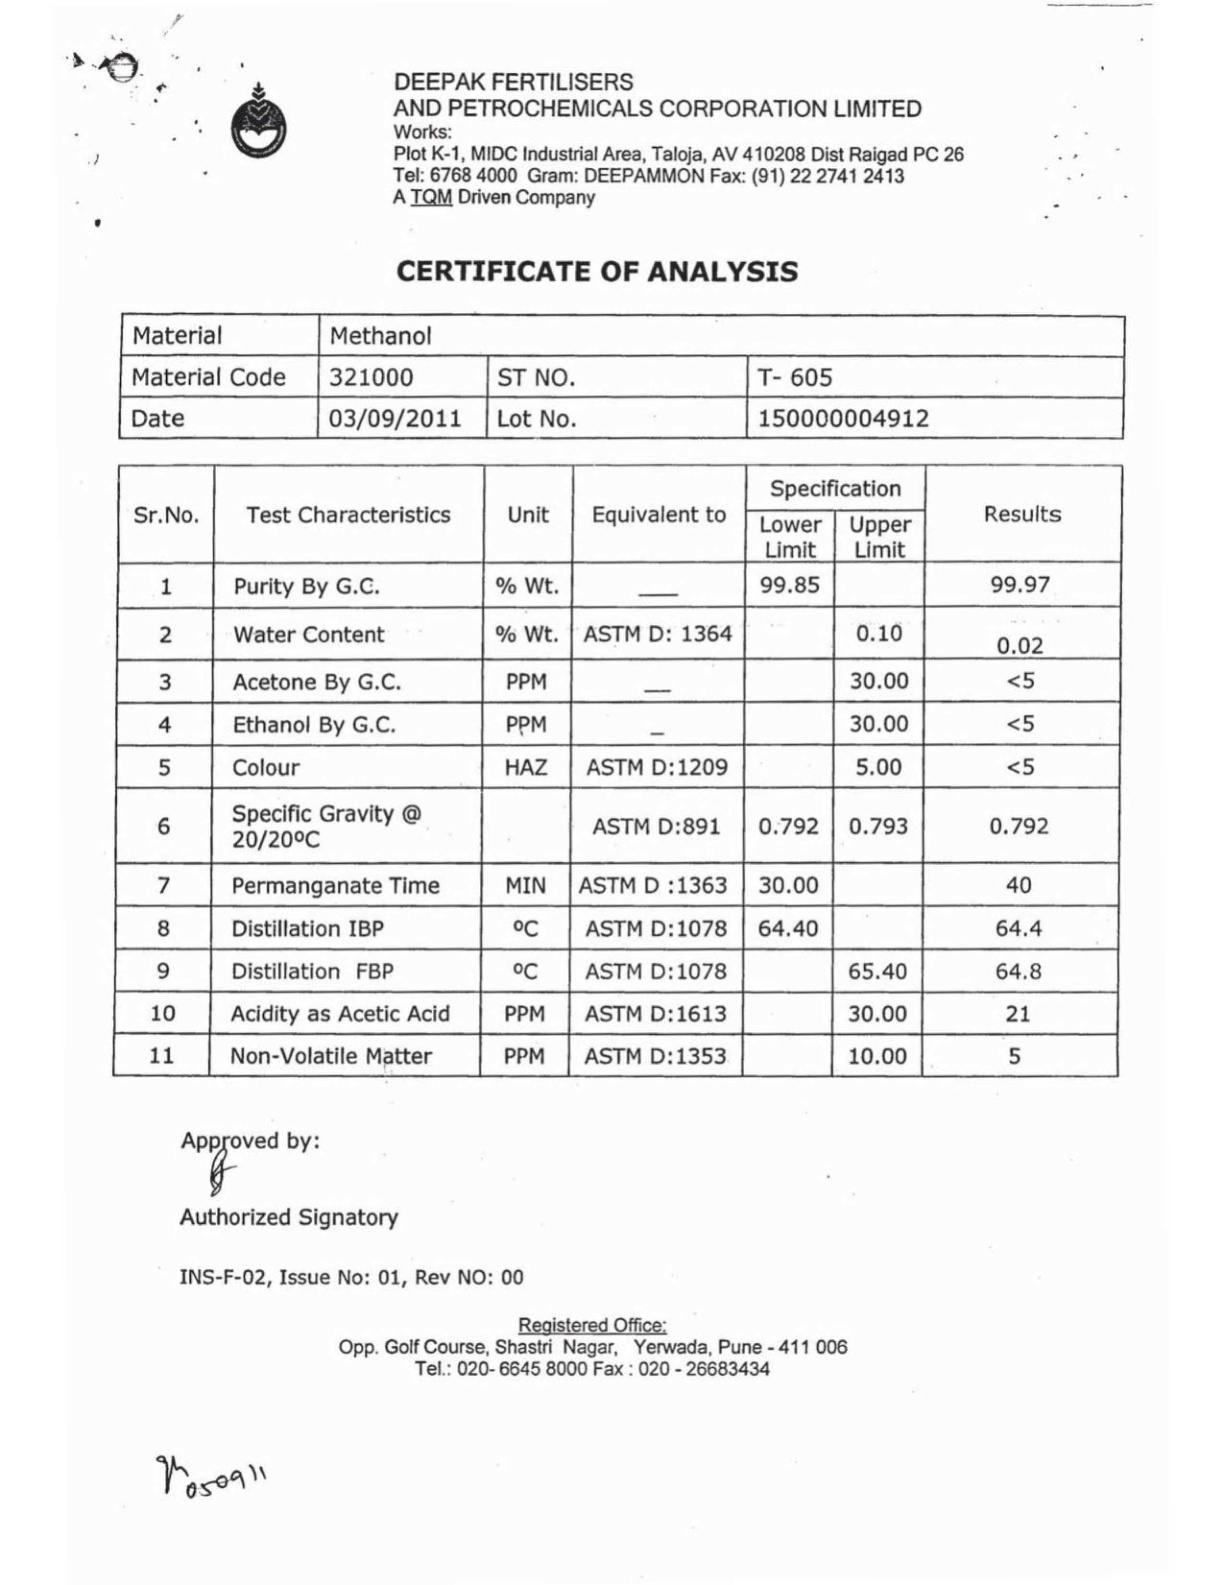merged_cells: (111, 461, 1126, 1080), (117, 312, 1128, 440)
